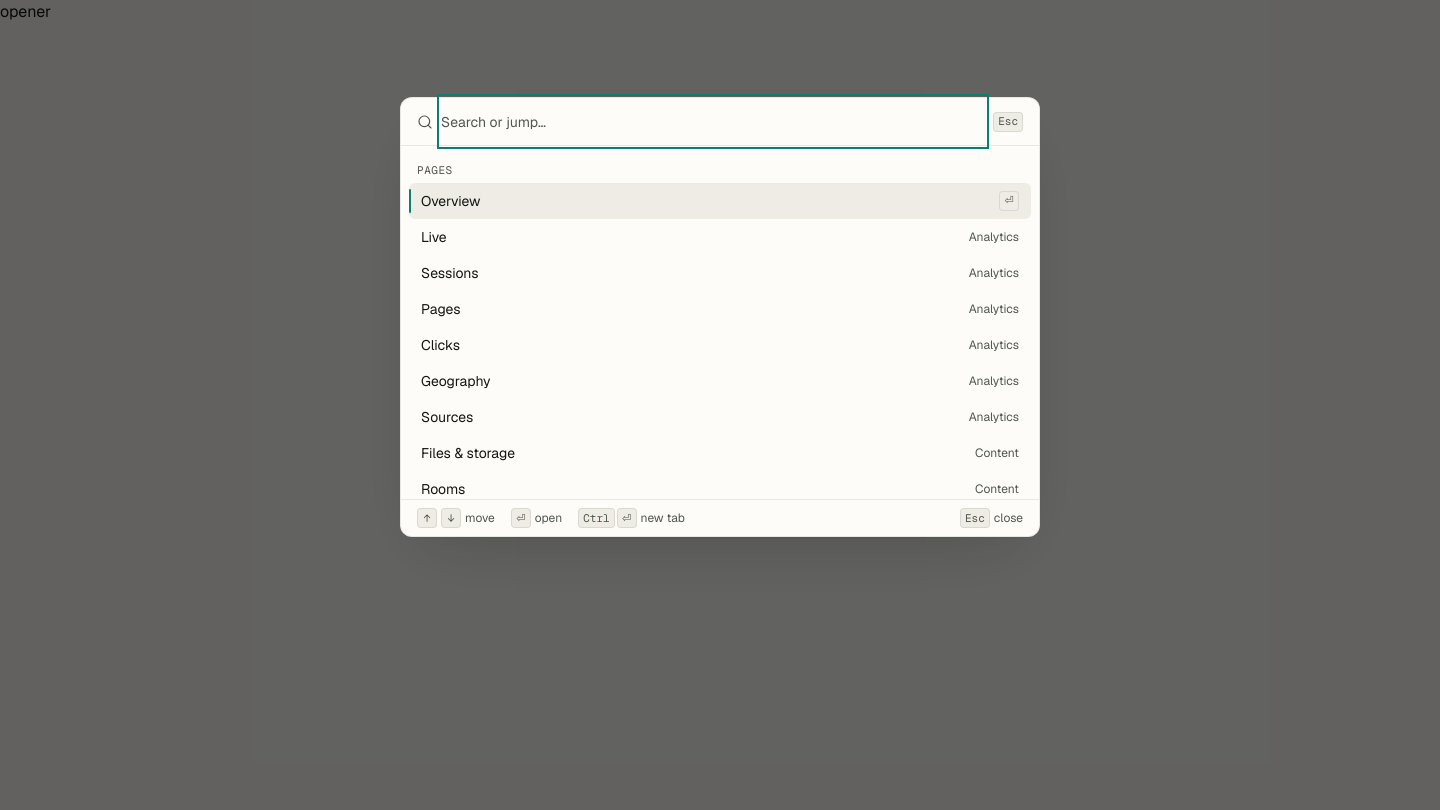
Test: CommandPalette › filters pages and actions instantly, with no server call for plain text
Type "sess" into the dropdown at (713, 122), box [441, 98, 985, 145]
Wait 500 ms
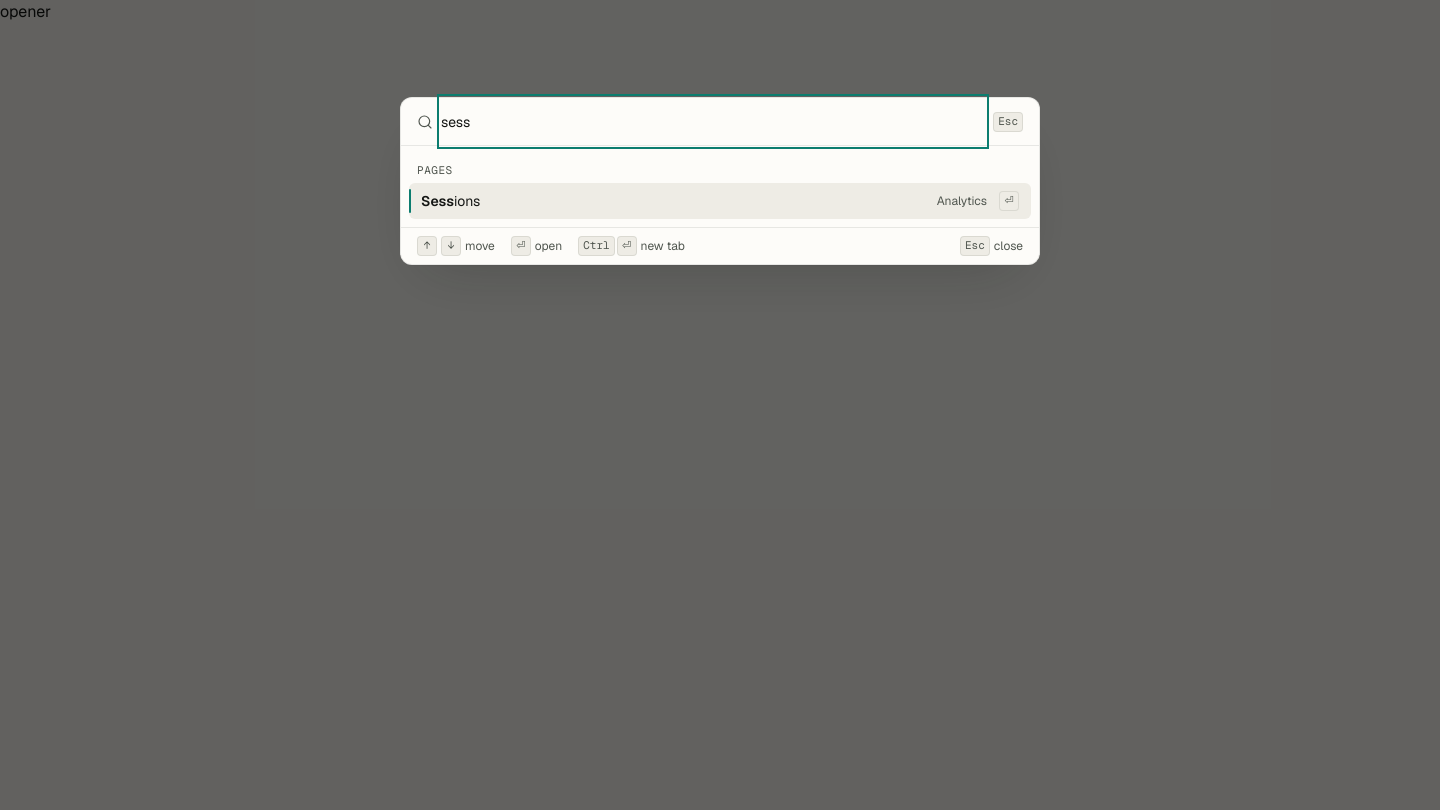
Replace the text in the dropdown with "zzzz" at (713, 122), box [441, 98, 985, 145]
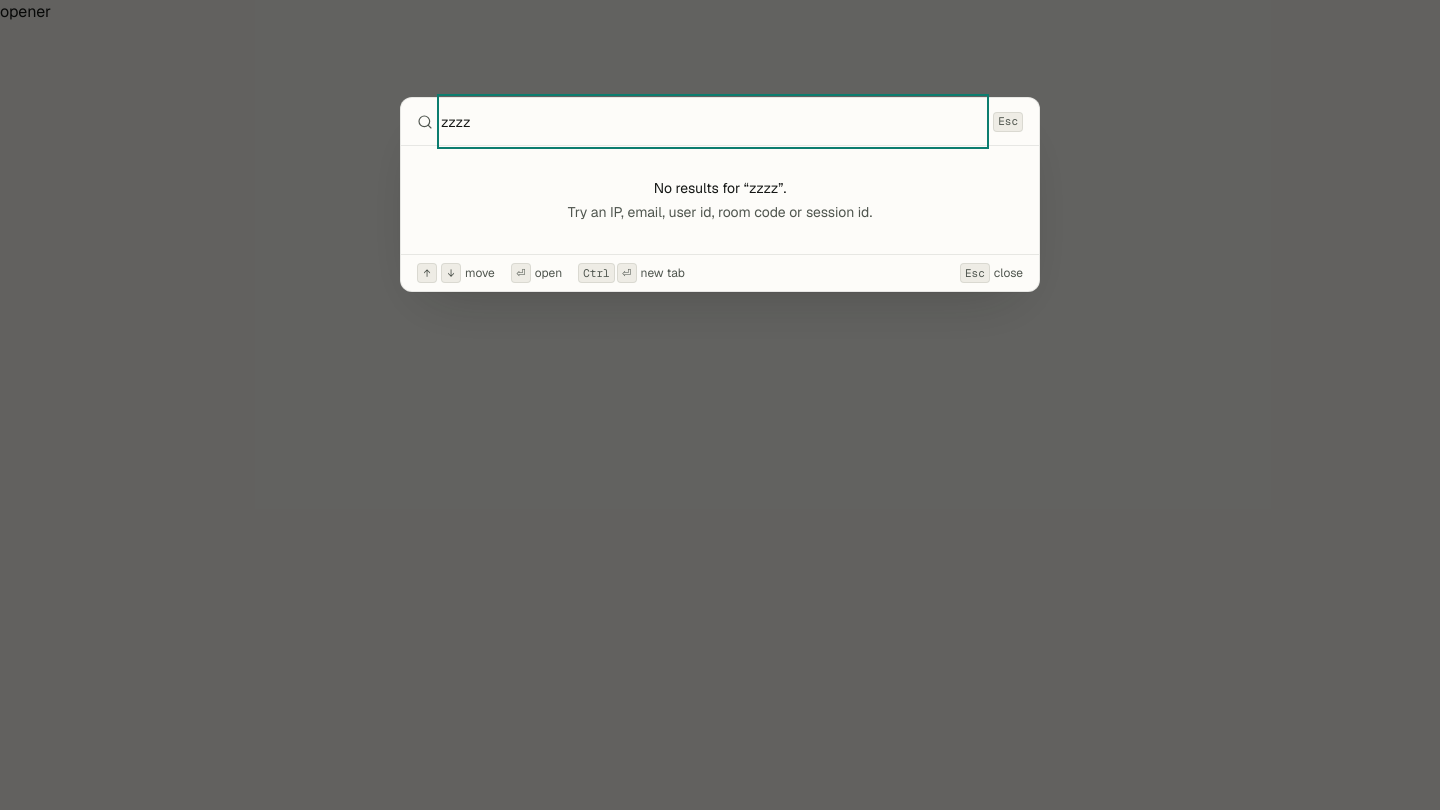
Result: the text "No results for “zzzz”." is shown at [654, 179, 786, 197]
